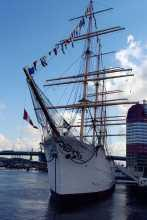fanchuan: (15, 1, 131, 202)
